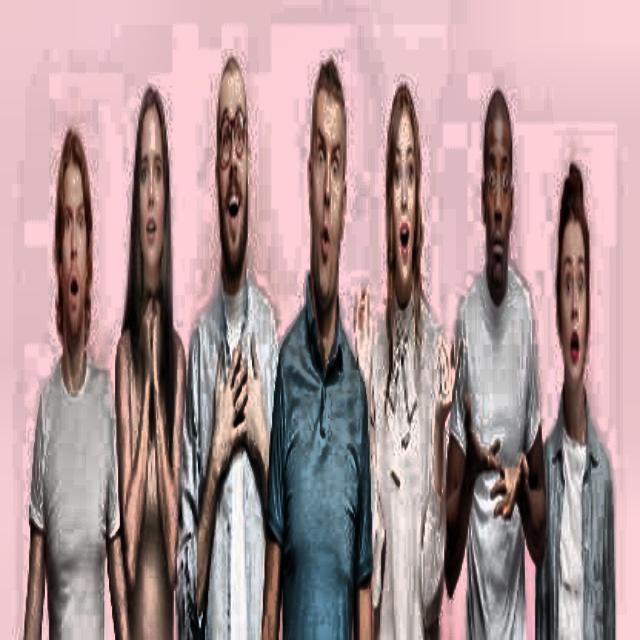surprised: (378, 75, 428, 336), (302, 59, 346, 325), (50, 138, 100, 351), (207, 67, 253, 290), (549, 148, 592, 381), (475, 90, 516, 313), (127, 87, 171, 288)
